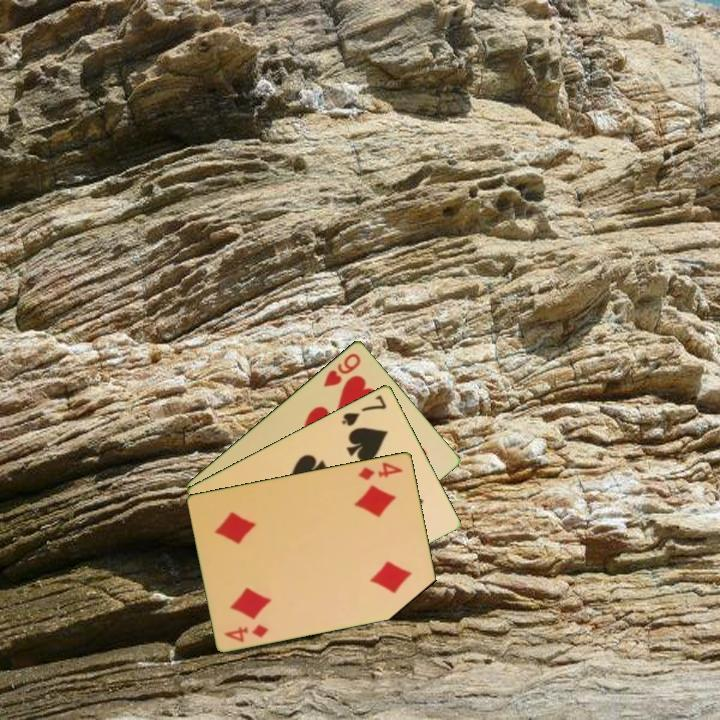4d: (354, 458, 406, 483), (221, 621, 272, 645)
7s: (338, 391, 390, 429)
9h: (320, 349, 364, 390)
